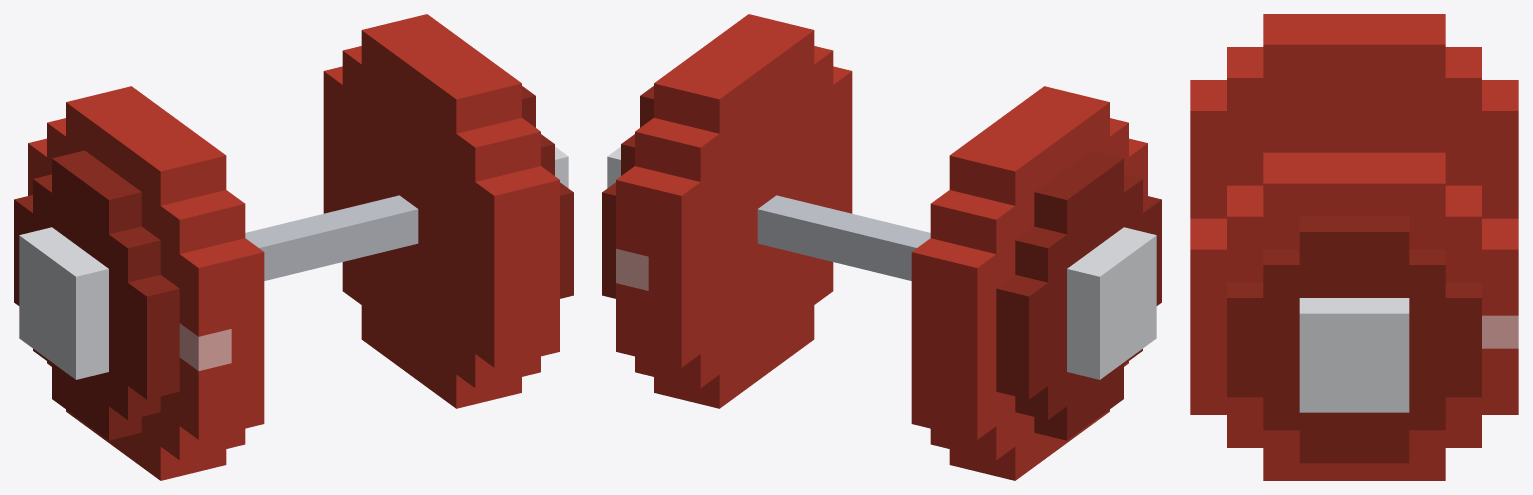
The model's file is Shop_Power.fbx.
3 views of the same model, side by side, from view 1: azimuth 30°, elevation 25°; view 2: azimuth 150°, elevation 25°; view 3: azimuth 270°, elevation 25° (orthographic). The views are drawn at different scales.
Visible parts, largest first — view 1: Shop_Power; view 2: Shop_Power; view 3: Shop_Power.
Part boxes in pixels (bbox=[...]): Shop_Power: bbox=[14, 14, 573, 480]; Shop_Power: bbox=[602, 14, 1161, 480]; Shop_Power: bbox=[1190, 14, 1518, 480].
Bounding box in the file's own units: 15 × 9 × 9.
